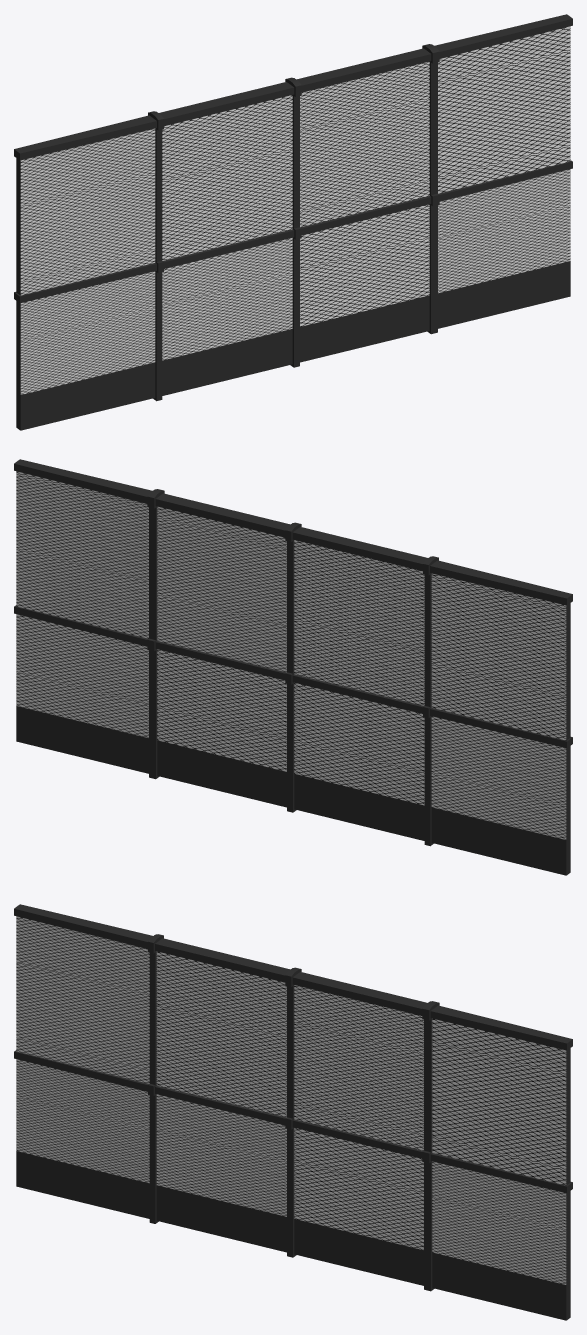
Rendered from barr1.fbx.
3 views of the same model, one above another, from view 1: azimuth 30°, elevation 25°; view 2: azimuth 150°, elevation 25°; view 3: azimuth 330°, elevation 25° (orthographic).
Visible parts, largest first — view 1: pCube12; view 2: pCube12; view 3: pCube12.
Boxes of the visible parts, bbox=[...] form: pCube12: bbox=[14, 14, 572, 430]; pCube12: bbox=[14, 459, 572, 875]; pCube12: bbox=[14, 904, 572, 1320].
Size of the model in its own units: 3038 by 1491 by 98.38.
2 materials, 1 textured.
